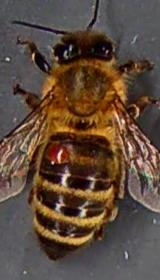varroa_mite: (38, 141, 74, 164)
